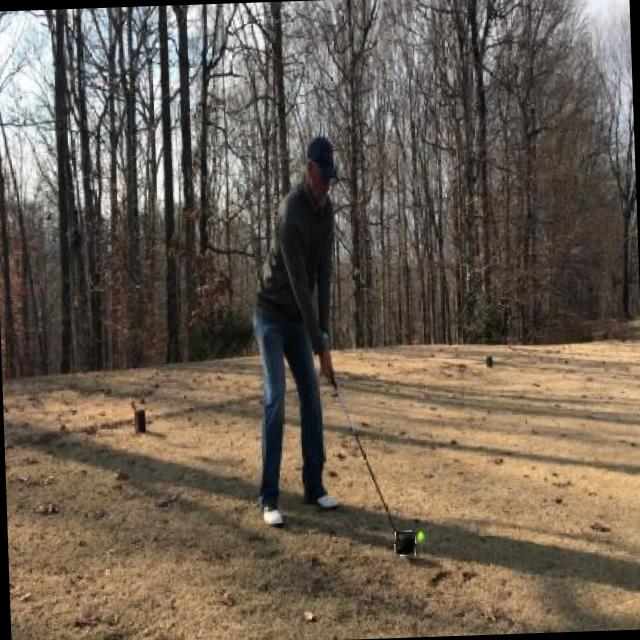club head: (394, 530, 416, 556)
